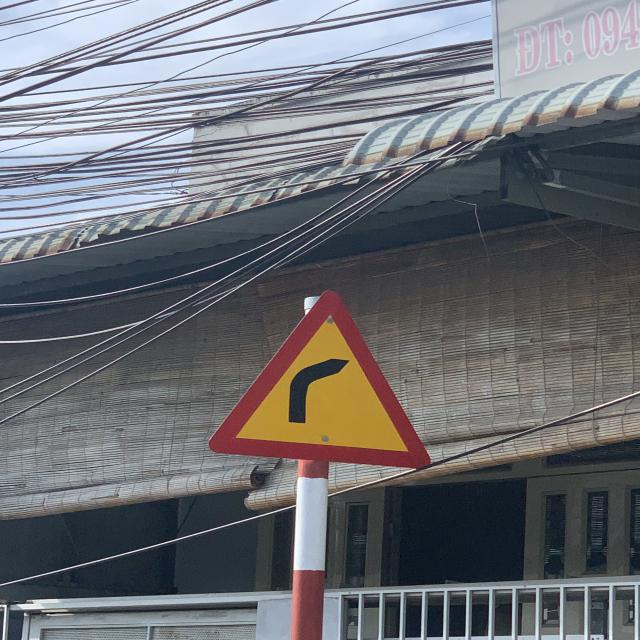Duong_Nguoi_Di_Bo_Cat_Ngang: (208, 290, 430, 470)
